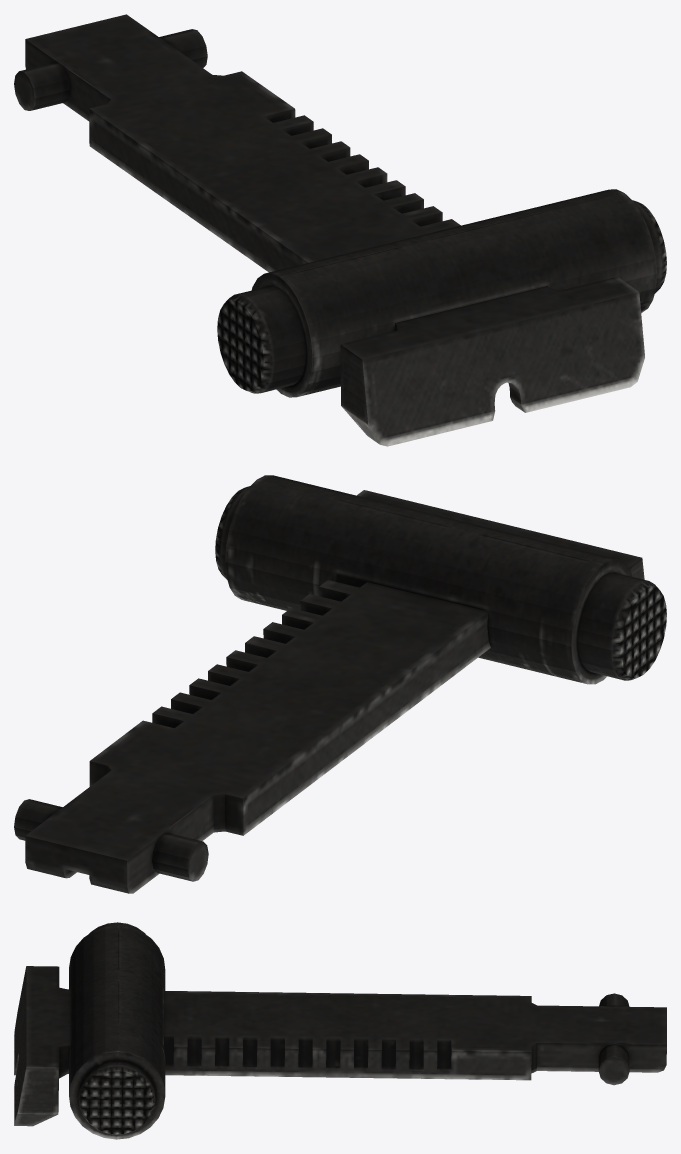
3 views of the same model, one above another, from view 1: azimuth 30°, elevation 25°; view 2: azimuth 150°, elevation 25°; view 3: azimuth 270°, elevation 25° (orthographic). The views are drawn at different scales.
Visible parts, largest first — view 1: TW_57838e1b2459774a256959b1_PZ_Import; view 2: TW_57838e1b2459774a256959b1_PZ_Import; view 3: TW_57838e1b2459774a256959b1_PZ_Import.
Part boxes in pixels (bbox=[...]): TW_57838e1b2459774a256959b1_PZ_Import: bbox=[14, 14, 666, 446]; TW_57838e1b2459774a256959b1_PZ_Import: bbox=[14, 475, 666, 893]; TW_57838e1b2459774a256959b1_PZ_Import: bbox=[14, 922, 666, 1139].
Size of the model in its own units: 0.0189 by 0.0351 by 0.00576.
1 material, 1 textured.
